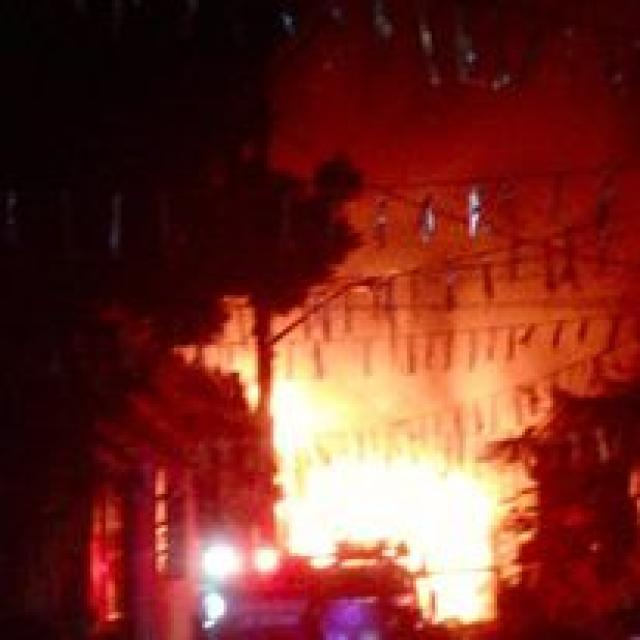Fire: (274, 405, 504, 586), (281, 321, 515, 419)
Smoke: (295, 62, 640, 326)
